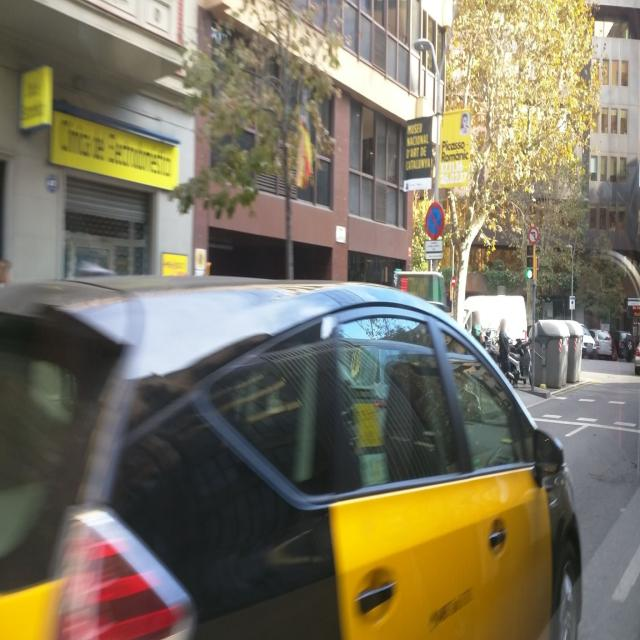forb_stopping: (424, 200, 445, 242)
